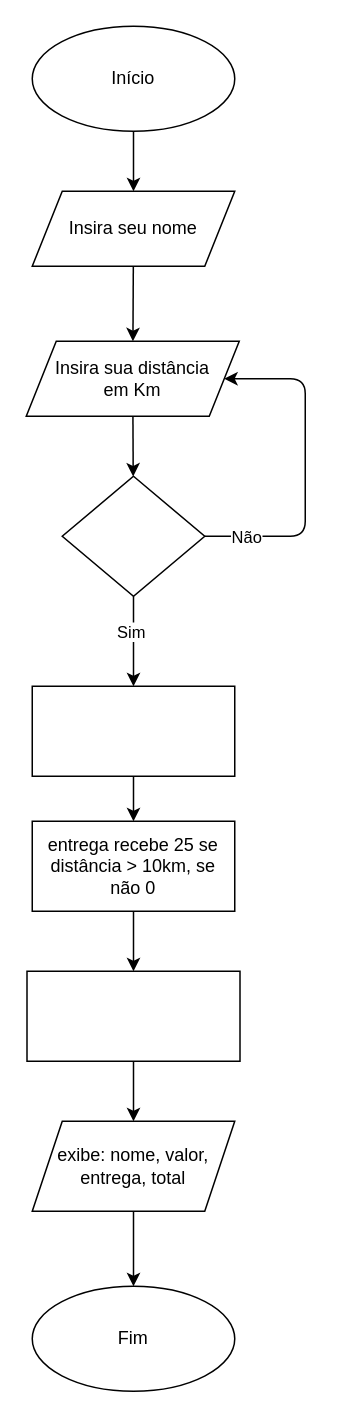
This 344x1418 diagram has some shape labels left out. The centre of each missing label's shape, as x and y in pixels:
O valor é válido?: (x=133, y=535)
total = entrega + valor: (x=133, y=1015)
Valor recebe 180: (x=133, y=730)
